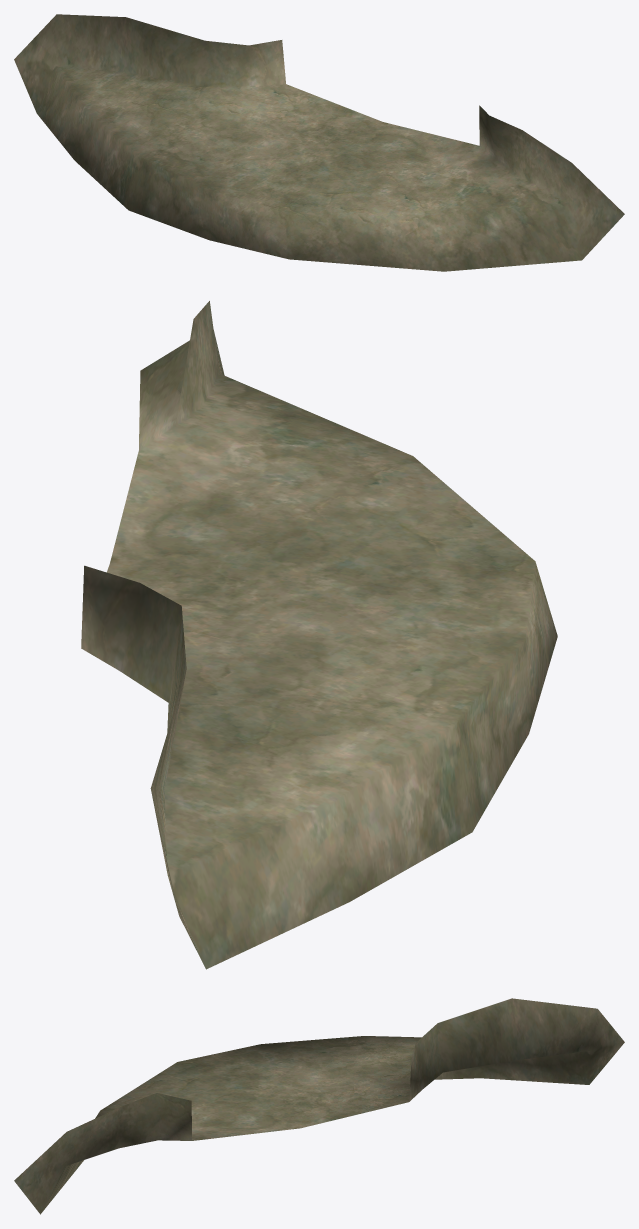
The model's file is EKH_ENTRANCE_PS_EN_GROTTO_GROUND_01.fbx.
3 views of the same model, one above another, from view 1: azimuth 30°, elevation 25°; view 2: azimuth 150°, elevation 25°; view 3: azimuth 270°, elevation 25° (orthographic). The views are drawn at different scales.
Visible parts, largest first — view 1: EKH_ENTRANCE_PS_EN_GROTTO_GROUND_01; view 2: EKH_ENTRANCE_PS_EN_GROTTO_GROUND_01; view 3: EKH_ENTRANCE_PS_EN_GROTTO_GROUND_01.
Boxes of the visible parts, x1,y1,x2,y2 form: EKH_ENTRANCE_PS_EN_GROTTO_GROUND_01: (14, 14, 624, 271); EKH_ENTRANCE_PS_EN_GROTTO_GROUND_01: (81, 301, 557, 969); EKH_ENTRANCE_PS_EN_GROTTO_GROUND_01: (14, 998, 624, 1214).
Bounding box in the file's own units: 27736 × 10181 × 47867.
Materials: 1 (1 with a texture image).
